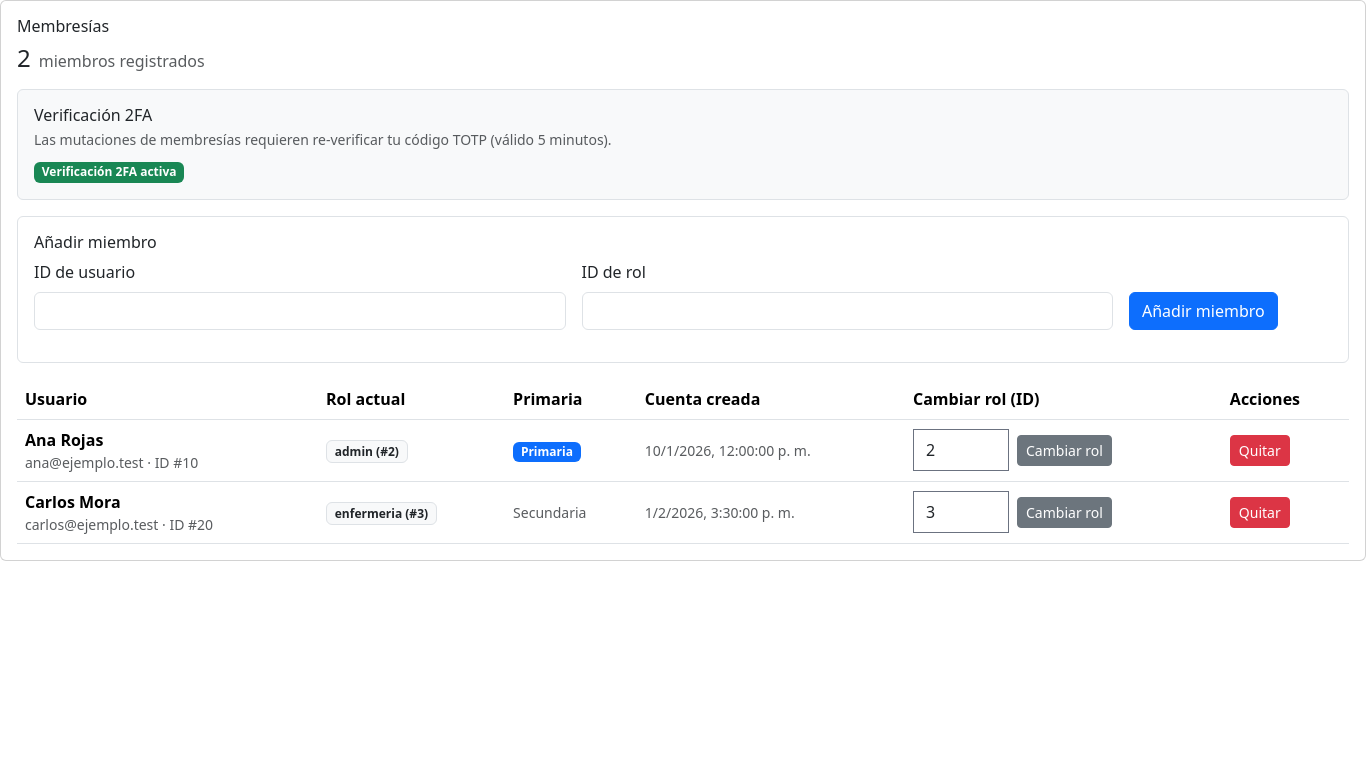
it: PlatformOrganizationMembersSection › cambia el rol de un miembro y refresca la lista
This screenshot has width=1366, height=768.
expect the text "Ana Rojas" is shown: met, box [25,429,103,451]
Replace the text in the number field named "Nuevo rol para Ana Rojas" with "5" at [961, 450], box [913,429,1009,471]
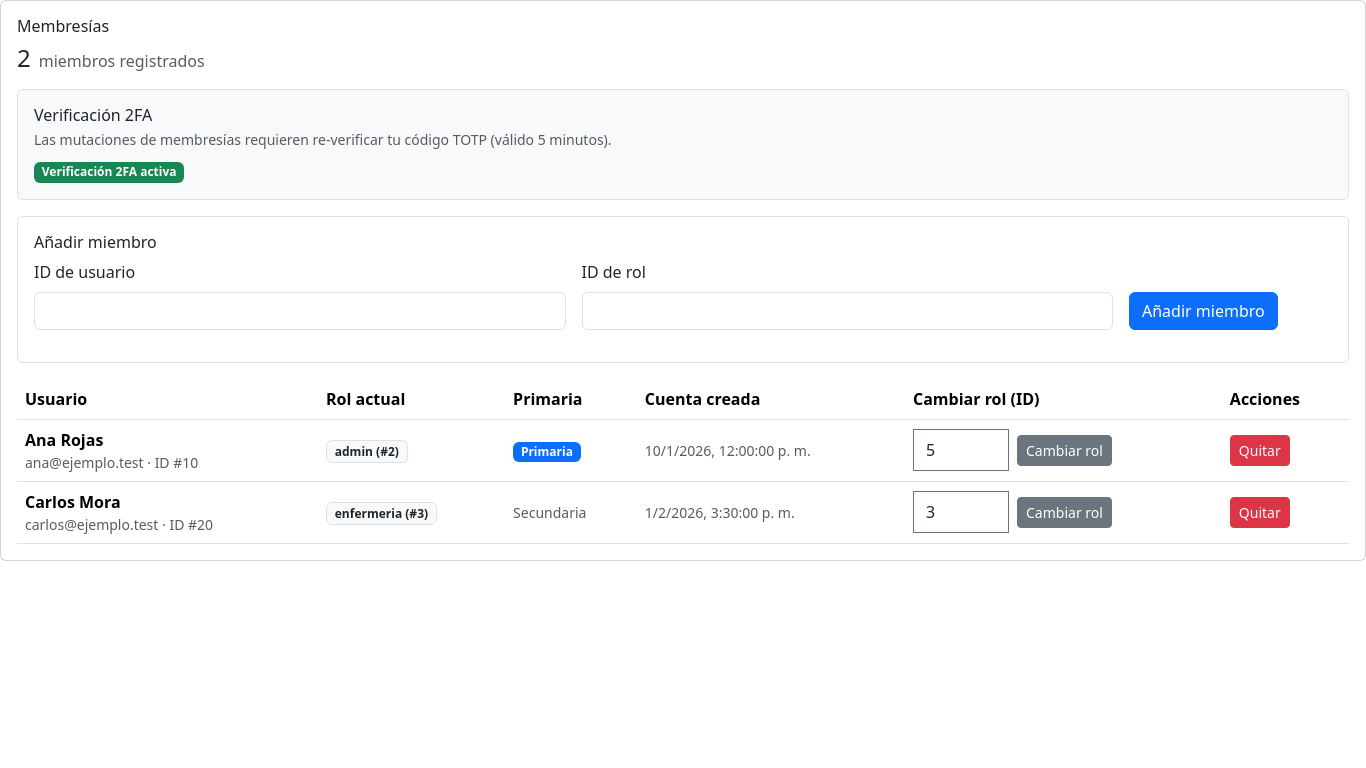
Click the button "Cambiar rol" in the row of "Ana Rojas" at [1064, 450], box [1017,435,1112,466]
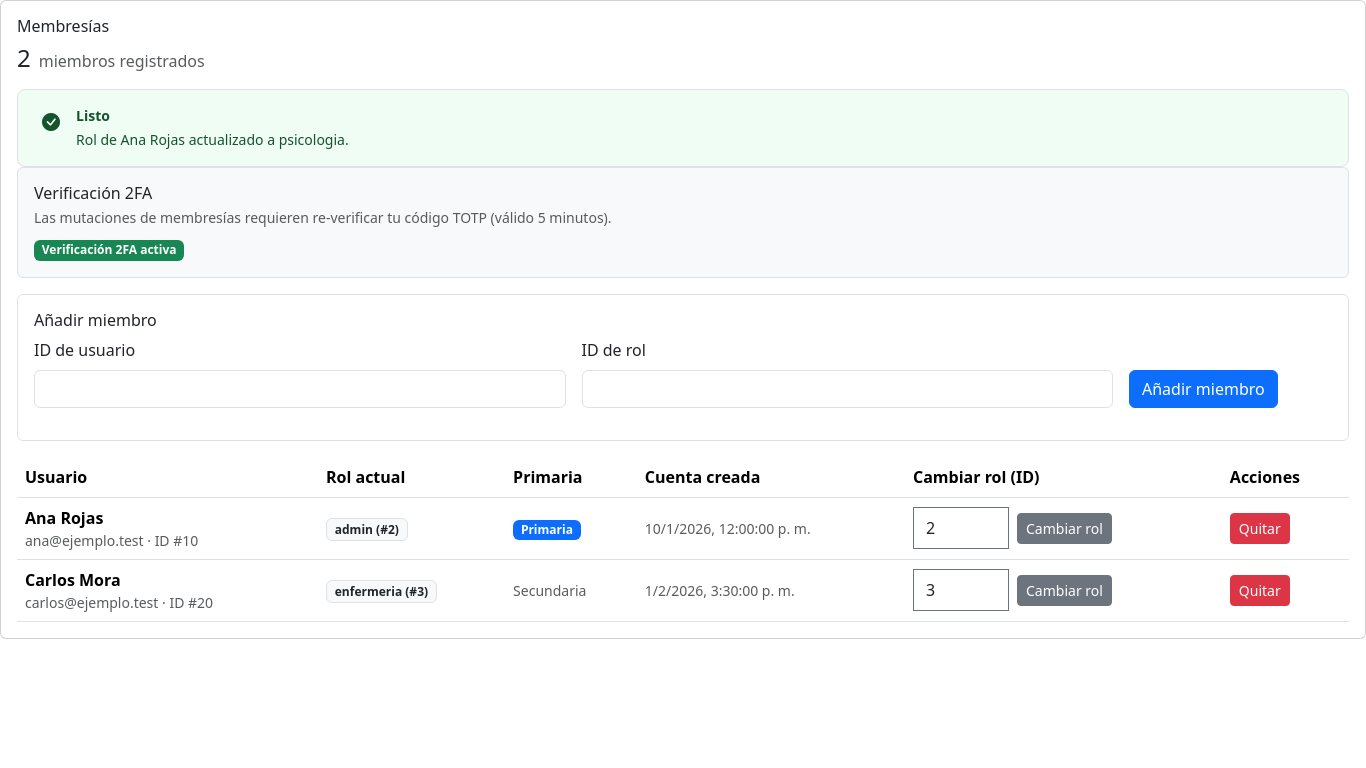
expect the text "Rol de Ana Rojas actualizado a psicologia." is shown: met, box [76,130,349,149]
